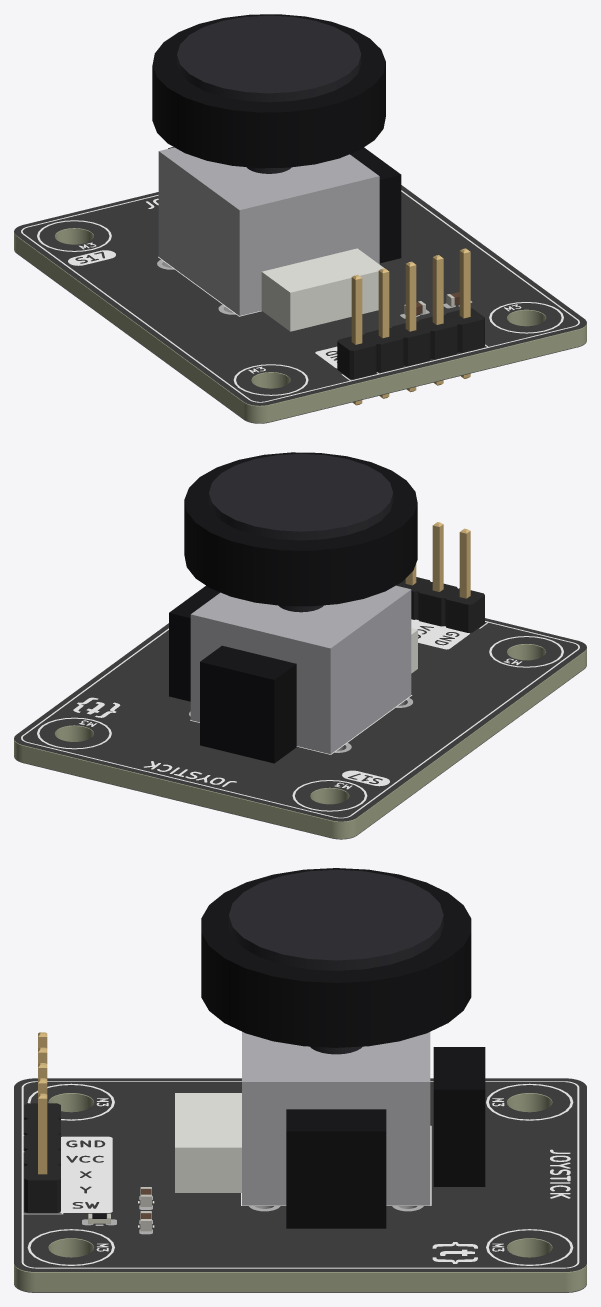
The picture shows the model from 3 angles, top to bottom: view 1: azimuth 30°, elevation 25°; view 2: azimuth 150°, elevation 25°; view 3: azimuth 270°, elevation 25°; orthographic projection. The views are drawn at different scales.
Parts seen in each view (by area): view 1: =>[0:1:1:9], Joystick_RKJXV_0, Joystick_RKJXV_5, Joystick_RKJXV_6, =>[0:1:1:11], J1, Joystick_RKJXV_3, =>[0:1:1:7], Joystick_RKJXV_2, =>[0:1:1:10]; view 2: =>[0:1:1:9], Joystick_RKJXV_0, Joystick_RKJXV_5, Joystick_RKJXV_6, =>[0:1:1:11], Joystick_RKJXV_1, =>[0:1:1:7], J1, Joystick_RKJXV_2, =>[0:1:1:10]; view 3: =>[0:1:1:9], Joystick_RKJXV_5, Joystick_RKJXV_0, Joystick_RKJXV_6, =>[0:1:1:11], Joystick_RKJXV_2, =>[0:1:1:7], Joystick_RKJXV_1, Joystick_RKJXV_3, J1, =>[0:1:1:10].
Boxes of the visible parts, <box> form: =>[0:1:1:9]: <box>14,185,586,405</box>; Joystick_RKJXV_0: <box>158,147,379,315</box>; Joystick_RKJXV_5: <box>152,14,385,168</box>; Joystick_RKJXV_6: <box>177,15,361,102</box>; =>[0:1:1:11]: <box>14,228,586,423</box>; J1: <box>337,248,484,405</box>; Joystick_RKJXV_3: <box>261,248,384,331</box>; =>[0:1:1:7]: <box>21,190,579,402</box>; Joystick_RKJXV_2: <box>350,147,401,263</box>; =>[0:1:1:10]: <box>14,251,586,423</box>; =>[0:1:1:9]: <box>14,618,586,821</box>; Joystick_RKJXV_0: <box>190,585,411,754</box>; Joystick_RKJXV_5: <box>184,452,417,606</box>; Joystick_RKJXV_6: <box>209,453,393,540</box>; =>[0:1:1:11]: <box>14,643,586,838</box>; Joystick_RKJXV_1: <box>200,645,296,763</box>; =>[0:1:1:7]: <box>21,619,579,818</box>; J1: <box>396,522,484,632</box>; Joystick_RKJXV_2: <box>169,585,219,701</box>; =>[0:1:1:10]: <box>14,666,586,839</box>; =>[0:1:1:9]: <box>14,1078,586,1271</box>; Joystick_RKJXV_5: <box>201,868,471,1047</box>; Joystick_RKJXV_0: <box>242,1031,430,1205</box>; Joystick_RKJXV_6: <box>229,869,443,970</box>; =>[0:1:1:11]: <box>14,1093,586,1292</box>; Joystick_RKJXV_2: <box>286,1109,386,1228</box>; =>[0:1:1:7]: <box>21,1081,579,1268</box>; Joystick_RKJXV_1: <box>433,1047,485,1186</box>; Joystick_RKJXV_3: <box>175,1093,241,1192</box>; J1: <box>24,1032,60,1213</box>; =>[0:1:1:10]: <box>14,1284,586,1292</box>.
Bounding box in the file's own units: 0.032 × 0.0228 × 0.04.
